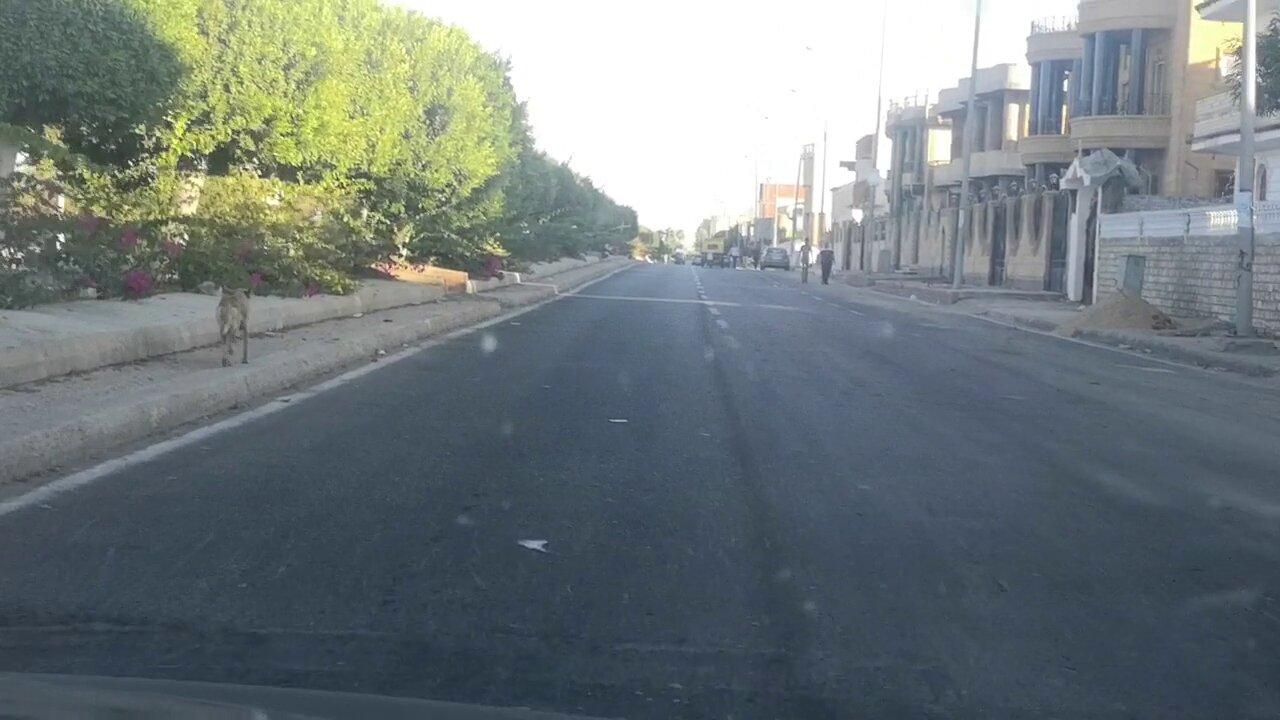Bump: (0, 603, 1279, 719)
